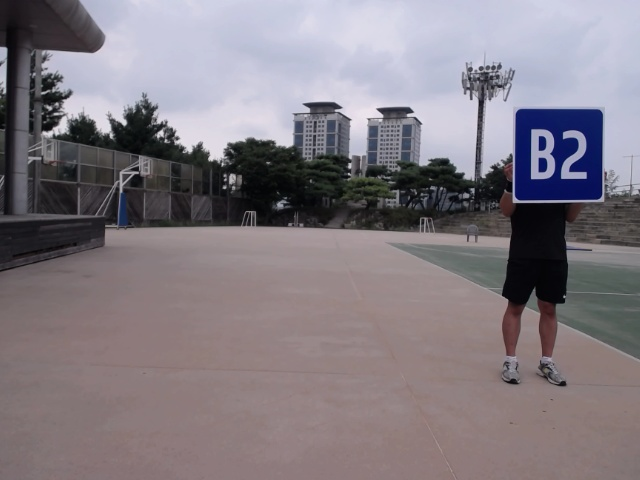delivery_b2: (512, 105, 606, 203)
